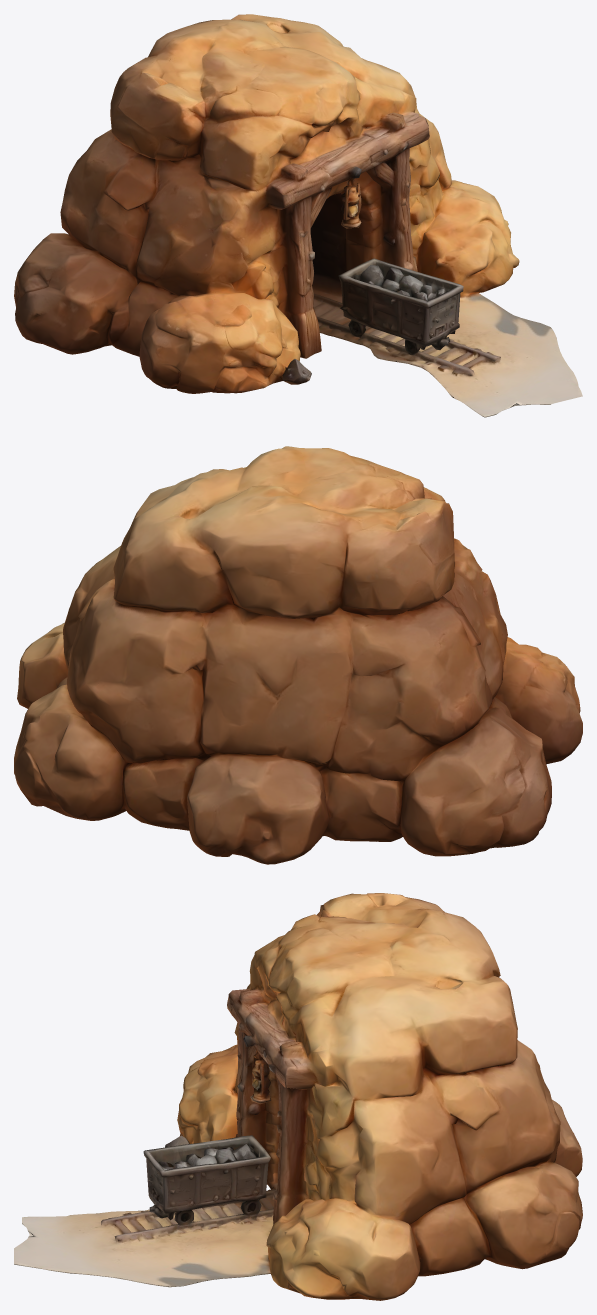
The model's file is mine.glb.
3 renders of one model, top to bottom at view 1: azimuth 30°, elevation 25°; view 2: azimuth 150°, elevation 25°; view 3: azimuth 270°, elevation 25°, orthographic. The views are drawn at different scales.
Parts seen in each view (by area): view 1: tripo_node_13540df9-b39c-4c37-9eca-4c48b856e006; view 2: tripo_node_13540df9-b39c-4c37-9eca-4c48b856e006; view 3: tripo_node_13540df9-b39c-4c37-9eca-4c48b856e006.
Part boxes in pixels (x1,y1,x2,y2): tripo_node_13540df9-b39c-4c37-9eca-4c48b856e006: [14, 14, 582, 417]; tripo_node_13540df9-b39c-4c37-9eca-4c48b856e006: [14, 446, 582, 864]; tripo_node_13540df9-b39c-4c37-9eca-4c48b856e006: [14, 893, 582, 1300].
Bounding box in the file's own units: 0.9404 × 0.5006 × 1.
Materials: 1 (1 with a texture image).
